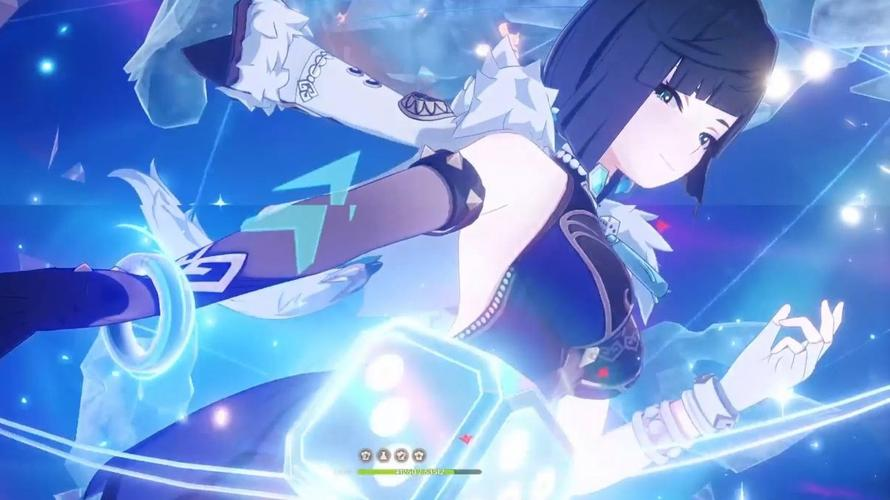夜兰: (1, 4, 868, 496)
